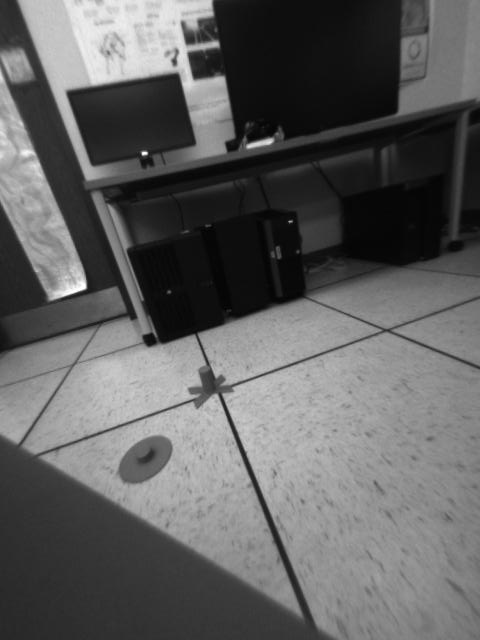X: (188, 367, 234, 409)
